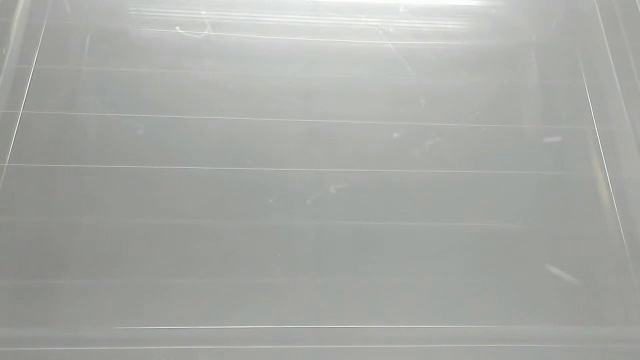alpha: (540, 258, 579, 289), (539, 131, 568, 146)
